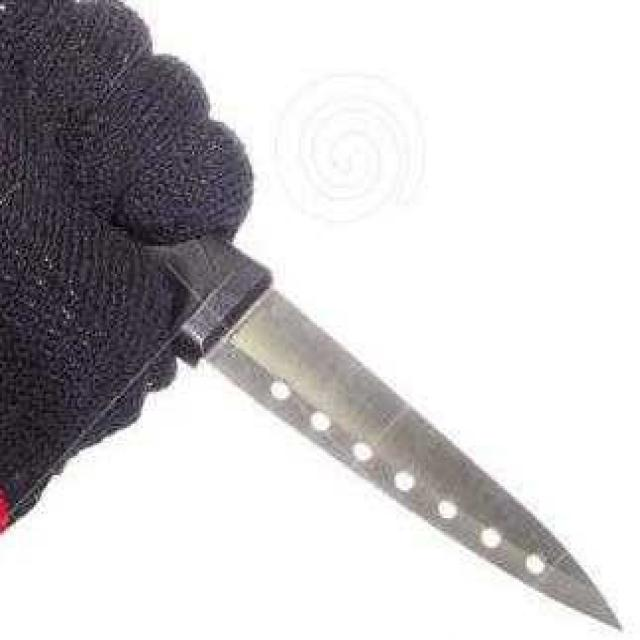Knife: (71, 132, 639, 640)
